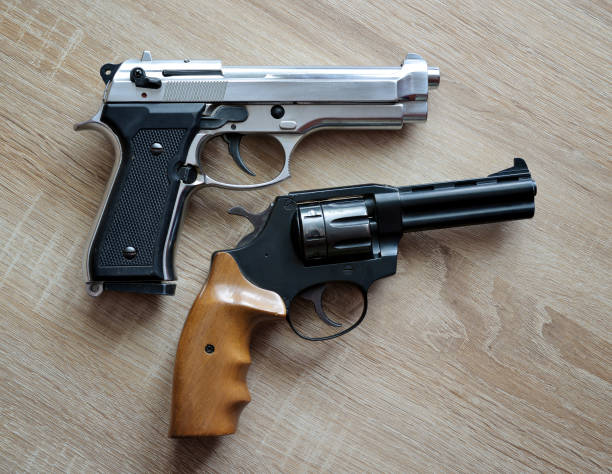gun: (165, 156, 539, 442), (69, 48, 440, 300)
